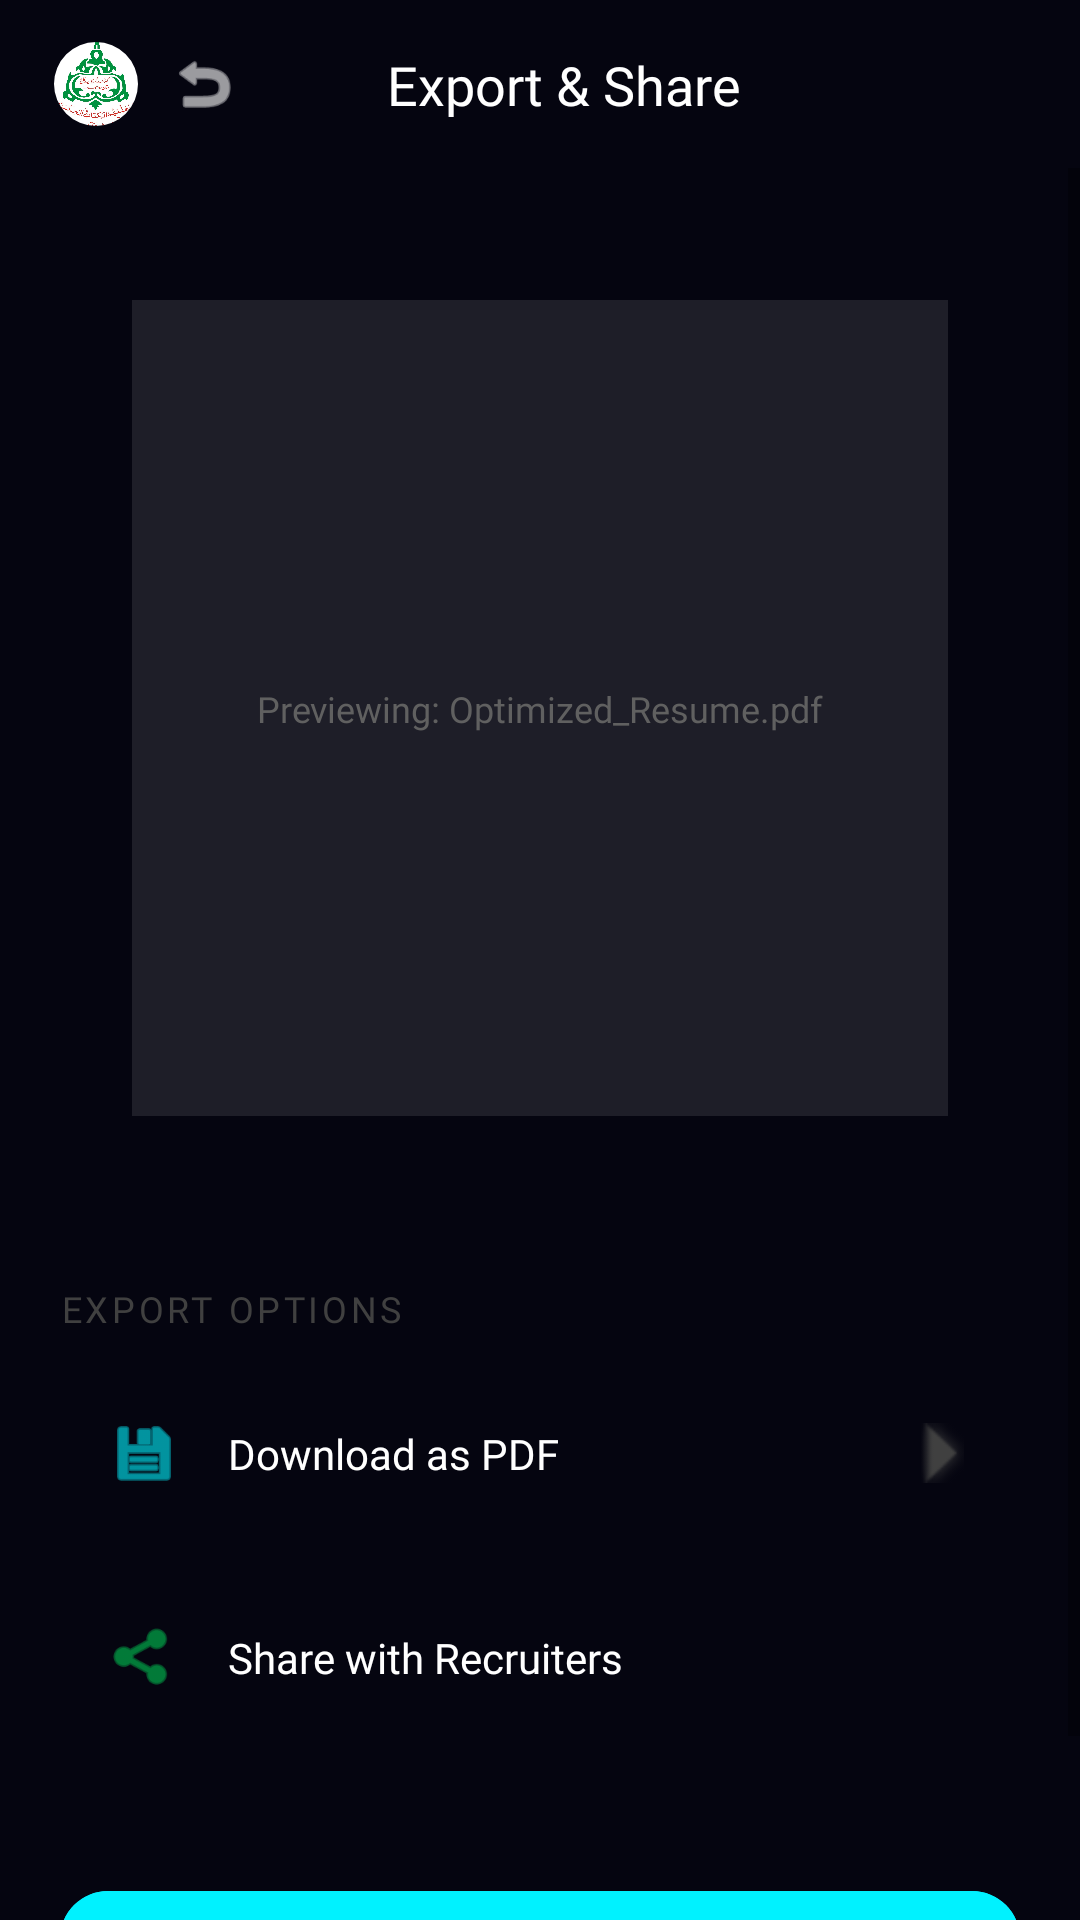

Named icons in this screenshot (1080w x 1920h) and their centers, (x=x, y=y):
revert: (x=205, y=84)
save: (x=144, y=1453)
